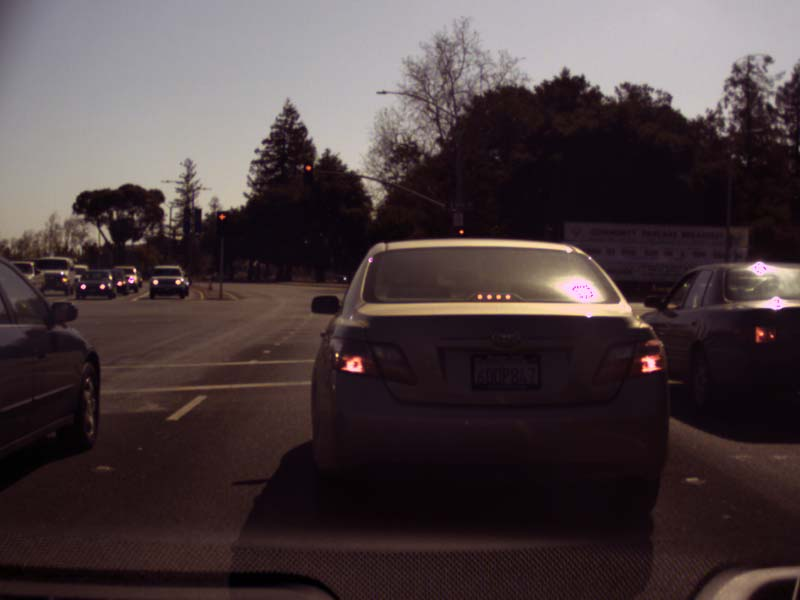Red: (217, 211, 227, 234), (304, 163, 312, 182), (457, 226, 465, 243)
